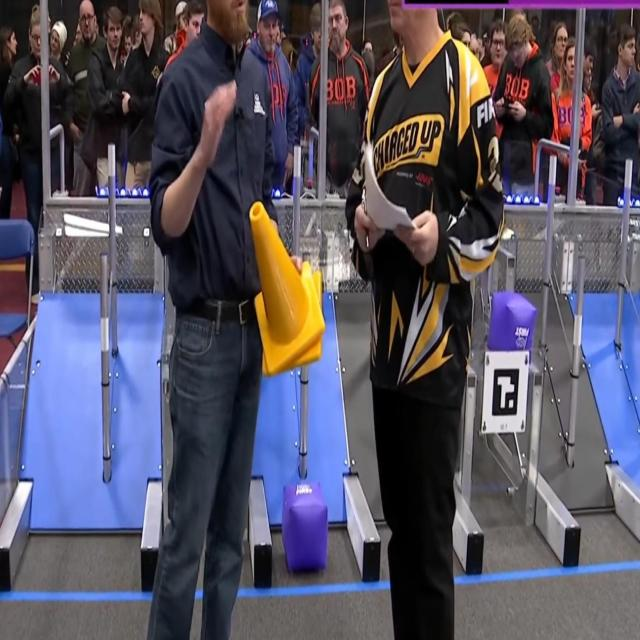frc_cone: (248, 200, 325, 372)
frc_cube: (281, 481, 329, 572), (488, 290, 535, 358)
